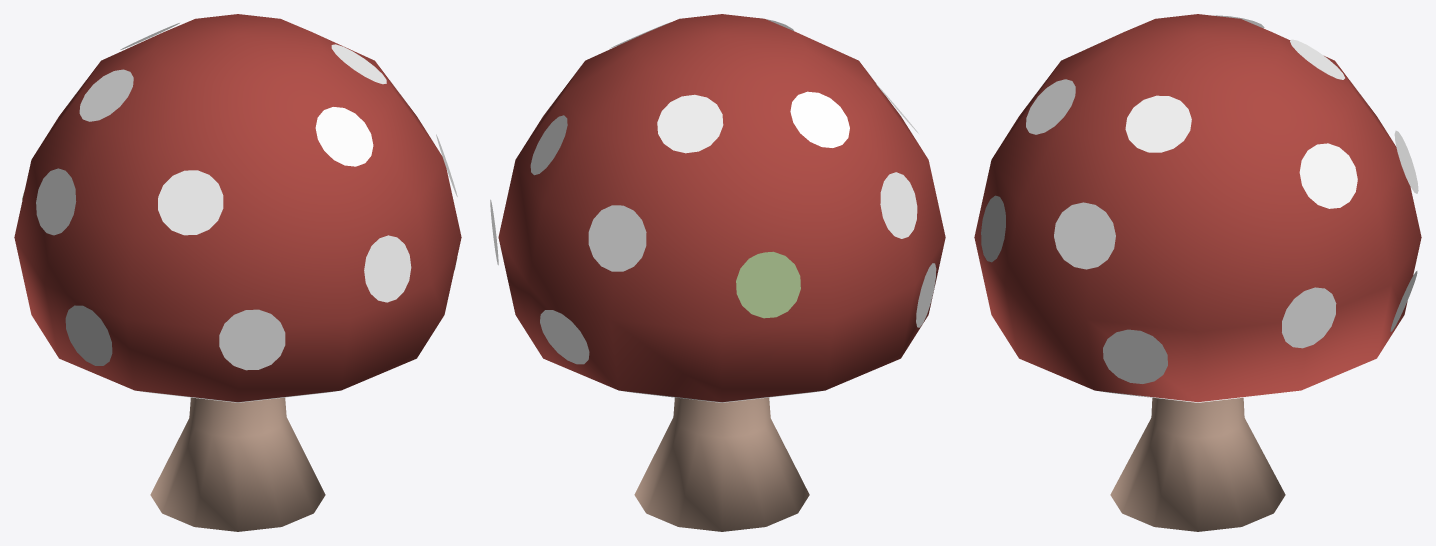
The model's file is Mush.fbx.
3 views of the same model, side by side, from view 1: azimuth 30°, elevation 25°; view 2: azimuth 150°, elevation 25°; view 3: azimuth 270°, elevation 25° (orthographic).
Parts seen in each view (by area): view 1: Circle.001; view 2: Circle.001; view 3: Circle.001.
Boxes of the visible parts, x1=… form: Circle.001: x1=14, y1=14, x2=461, y2=531; Circle.001: x1=490, y1=14, x2=945, y2=531; Circle.001: x1=974, y1=14, x2=1421, y2=531.
Bounding box in the file's own units: 413 × 468 × 413.
